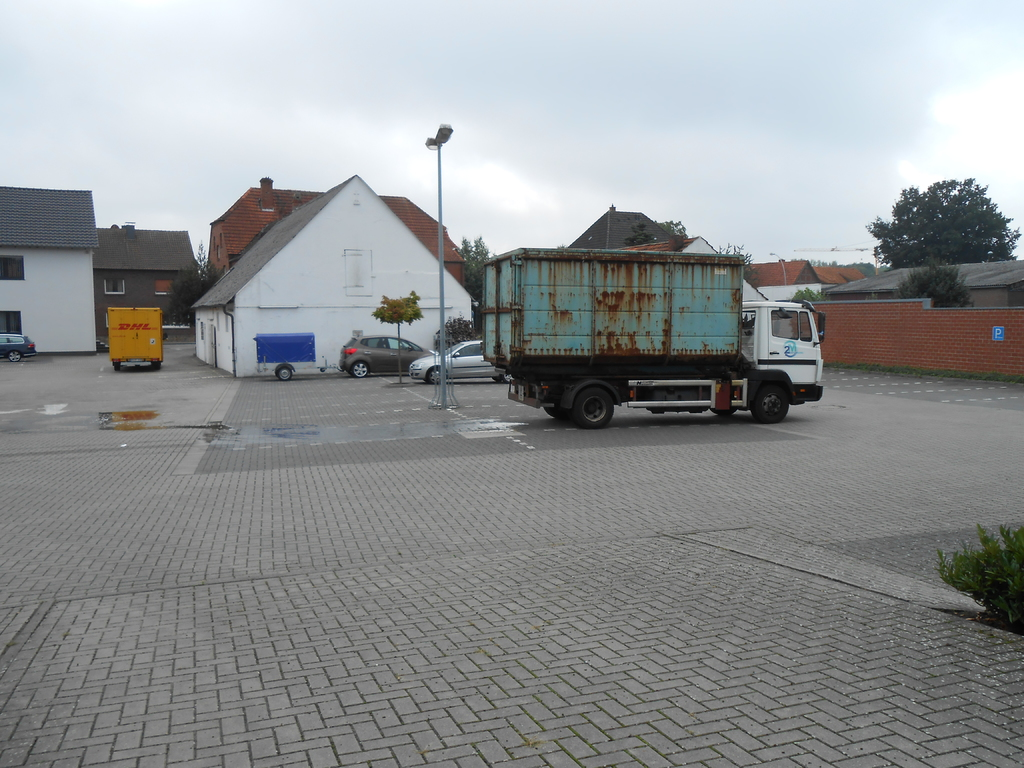Car: (340, 333, 435, 377), (408, 344, 510, 375), (0, 333, 33, 361)
